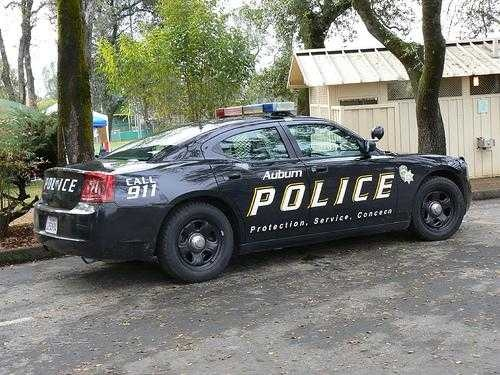Police Car: (18, 78, 478, 305)
